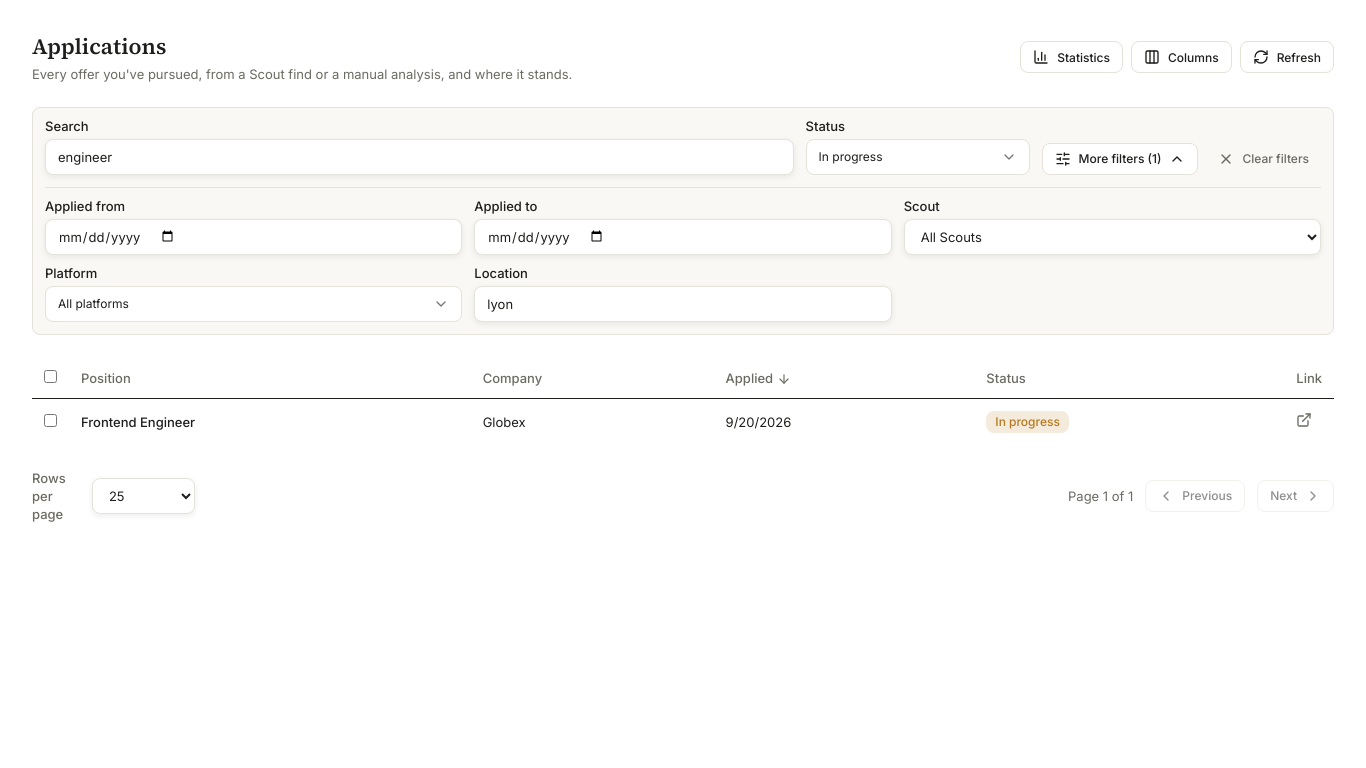
Test: ApplicationsPage — table (#236) › resets every filter, visible and folded, with one 'Clear filters'
Expected: the text "Frontend Engineer" is shown, [69, 399, 471, 445]
Expected: the text "Backend Engineer" is not shown
Click the button "Clear filters" at (1264, 159), box [1206, 143, 1321, 175]
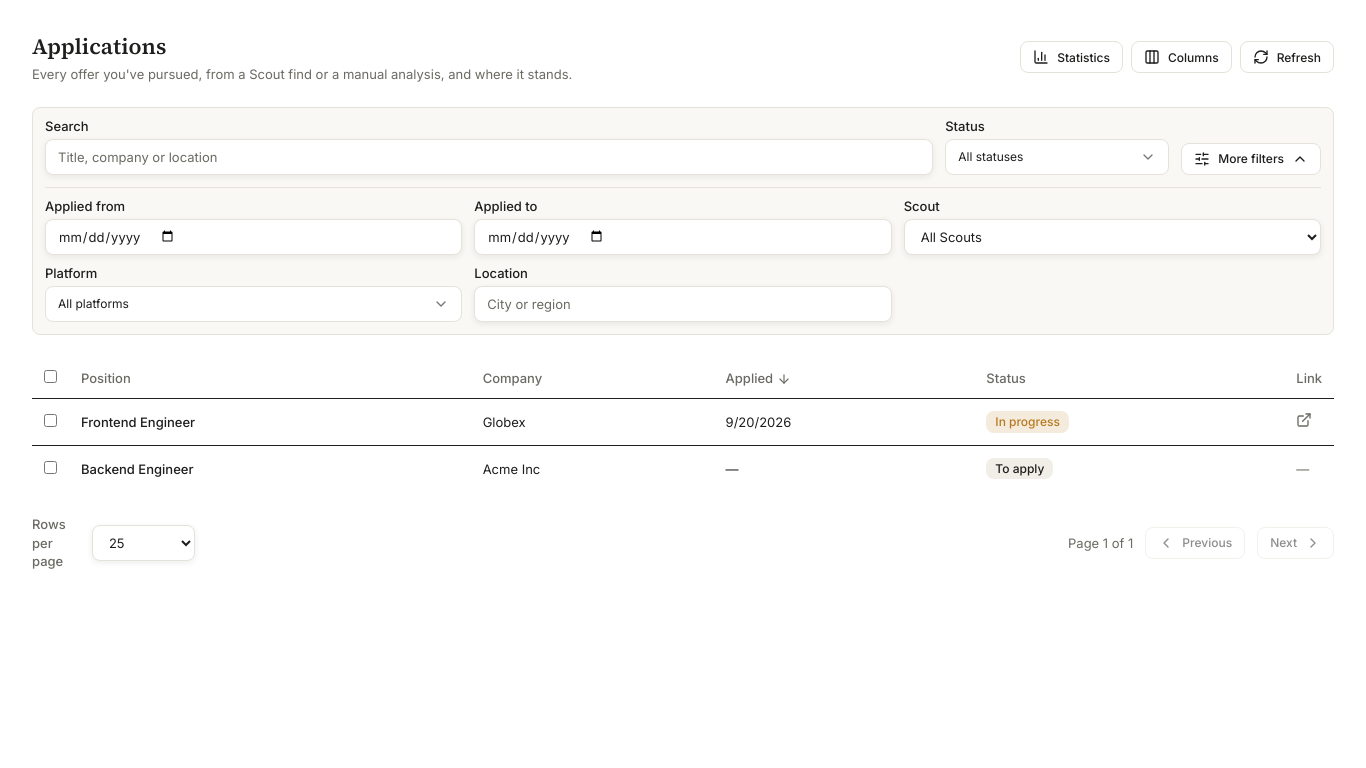
Expected: the text "Backend Engineer" is shown, [69, 445, 471, 492]
Expected: the button "Clear filters" is gone
